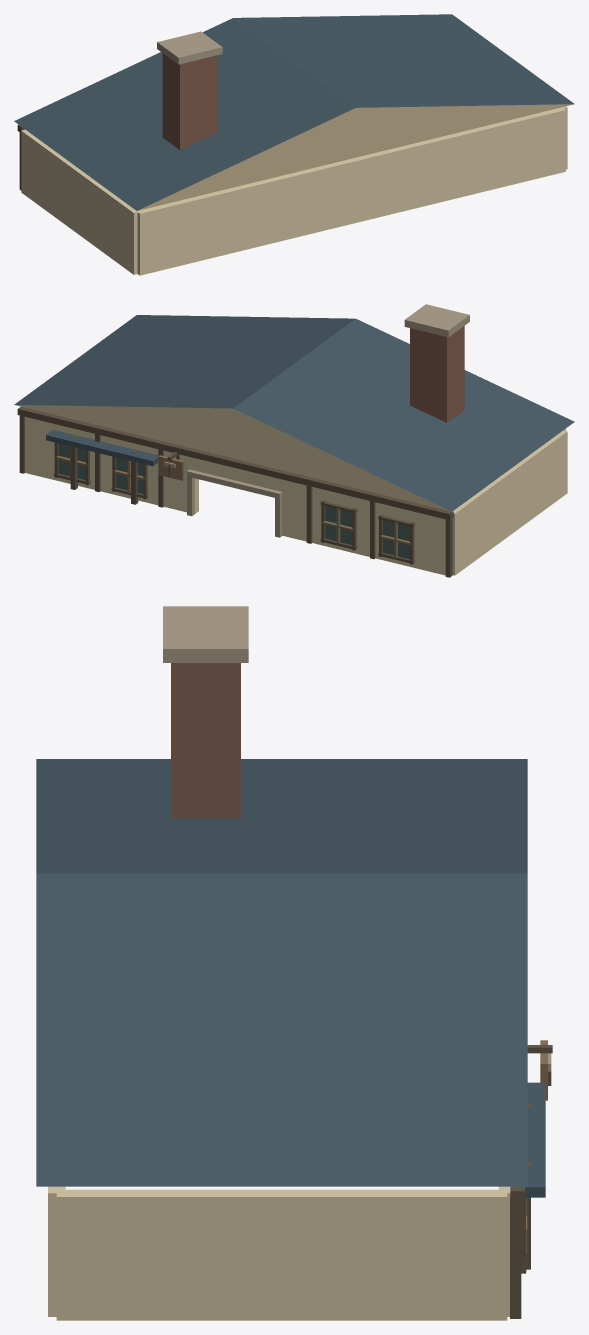
The model's file is WalkTown_Forge_Cover.fbx.
3 renders of one model, top to bottom at view 1: azimuth 30°, elevation 25°; view 2: azimuth 150°, elevation 25°; view 3: azimuth 270°, elevation 25°, orthographic. The views are drawn at different scales.
Parts seen in each view (by area): view 1: WalkTown_Forge_Cover; view 2: WalkTown_Forge_Cover; view 3: WalkTown_Forge_Cover.
Part boxes in pixels (bbox=[...]): WalkTown_Forge_Cover: bbox=[14, 14, 574, 275]; WalkTown_Forge_Cover: bbox=[14, 304, 574, 577]; WalkTown_Forge_Cover: bbox=[36, 606, 552, 1320].
Bounding box in the file's own units: 15.94 × 6.32 × 8.13.
